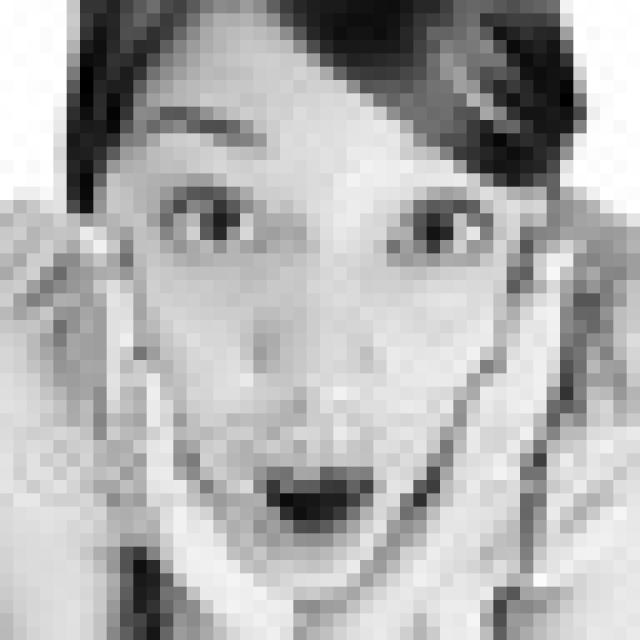surprise: (130, 97, 493, 574)
